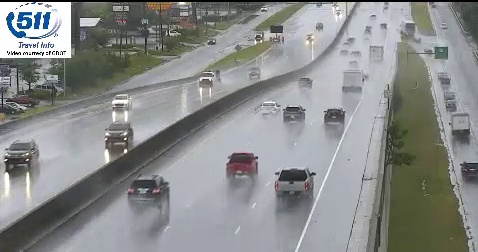car: (129, 174, 169, 205), (274, 168, 313, 197), (226, 153, 259, 176), (283, 106, 305, 122), (323, 108, 345, 123), (260, 101, 279, 115)
